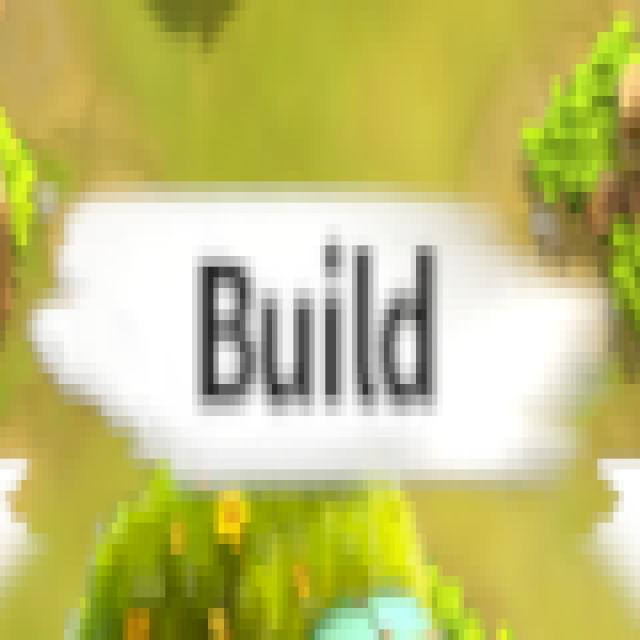build: (188, 211, 452, 436)
